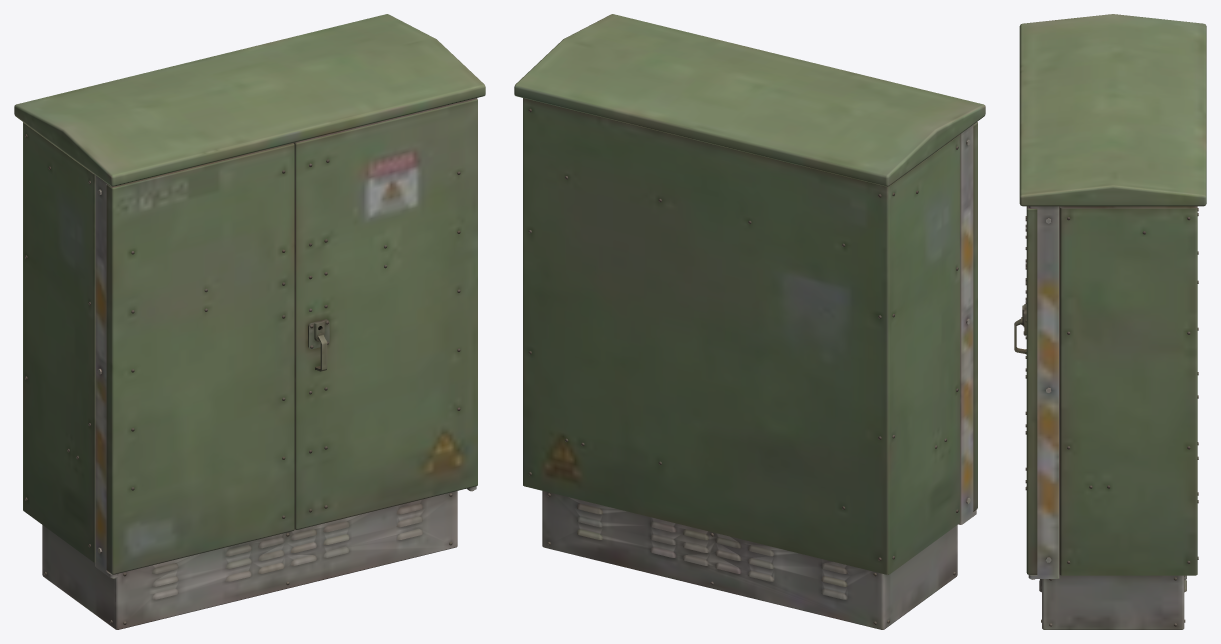
File: utility-box--2.gltf
3 views of the same model, side by side, from view 1: azimuth 30°, elevation 25°; view 2: azimuth 150°, elevation 25°; view 3: azimuth 270°, elevation 25° (orthographic). The views are drawn at different scales.
Parts seen in each view (by area): view 1: utility_box_02; view 2: utility_box_02; view 3: utility_box_02.
Part boxes in pixels (left/top/right/bottom): utility_box_02: left=14, top=14, right=485, bottom=629; utility_box_02: left=514, top=14, right=985, bottom=629; utility_box_02: left=1014, top=14, right=1206, bottom=629.
Bounding box in the file's own units: 0.92 × 1.12 × 0.4319.
Materials: 1 (1 with a texture image).
